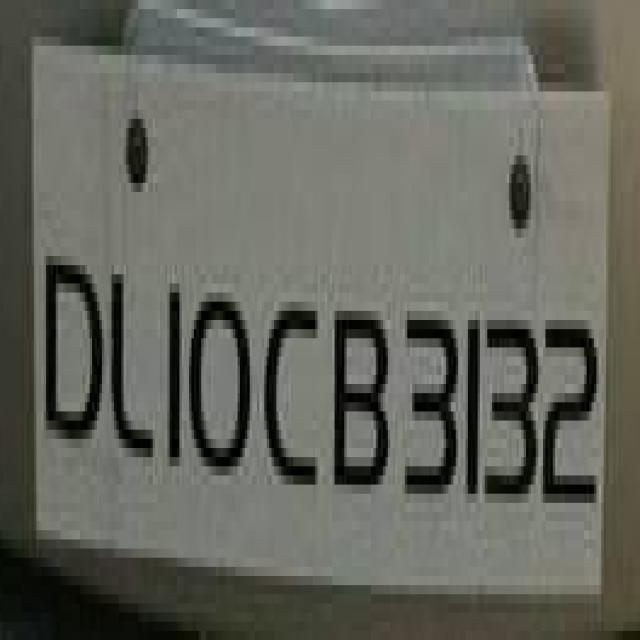plate: (0, 36, 601, 640)
